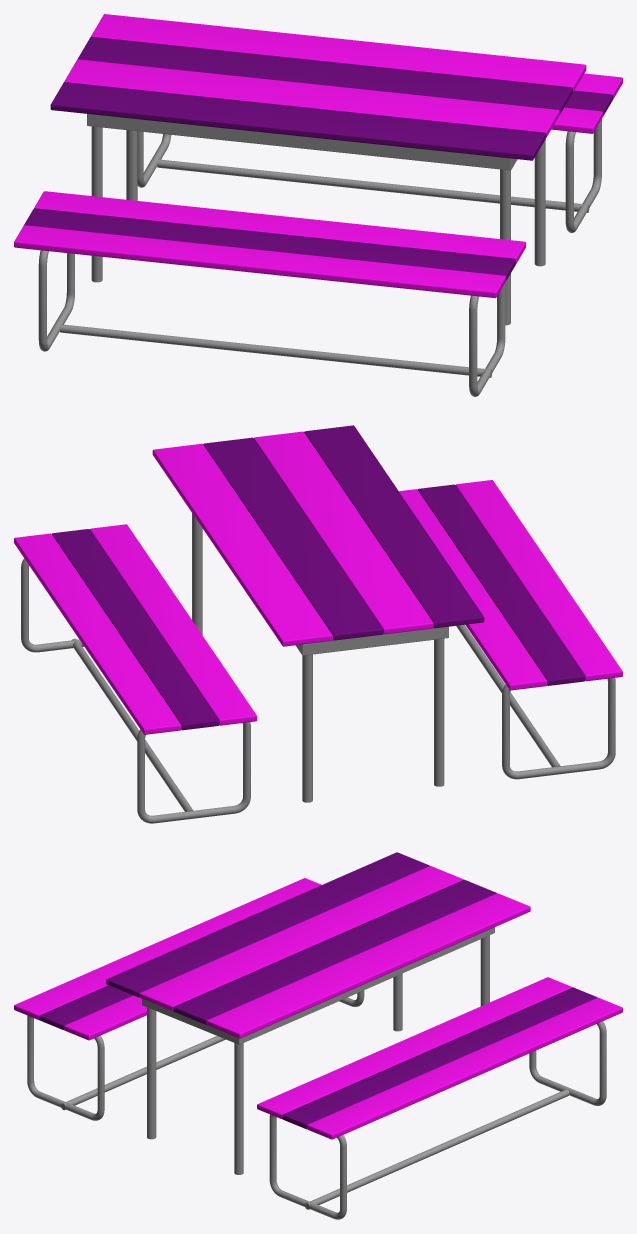
File: Mesa.FBX
3 renders of one model, top to bottom at view 1: azimuth 30°, elevation 25°; view 2: azimuth 150°, elevation 25°; view 3: azimuth 270°, elevation 25°, orthographic. The views are drawn at different scales.
Visible parts, largest first — view 1: Object4809, Object4810, Line3869, Line3879, Line3880, Rectangle042, Rectangle044, Rectangle043, Line3878, Line3876, Line3875, Rectangle045 (+1 smaller); view 2: Object4809, Object4810, Rectangle043, Rectangle045, Line3869, Line3880, Line3877, Line3876, Line3879, Line3878, Rectangle044; view 3: Object4809, Object4810, Line3869, Line3880, Rectangle042, Rectangle044, Rectangle045, Line3878, Line3875, Line3879, Line3877, Line3876.
Part boxes in pixels (x1,y1,x2,y2): Object4809: (14, 14, 622, 298); Object4810: (24, 36, 612, 280); Line3869: (87, 114, 517, 170); Line3879: (60, 324, 492, 377); Line3880: (157, 159, 589, 212); Rectangle042: (469, 283, 505, 396); Rectangle044: (565, 119, 601, 232); Rectangle043: (38, 250, 74, 351); Line3878: (534, 139, 545, 266); Line3876: (91, 126, 102, 282); Line3875: (500, 169, 510, 325); Rectangle045: (137, 131, 171, 187); Object4809: (14, 431, 622, 734); Object4810: (52, 425, 584, 730); Rectangle043: (502, 678, 615, 779); Rectangle045: (137, 722, 250, 823); Line3869: (295, 626, 448, 655); Line3880: (72, 638, 193, 811); Line3877: (302, 654, 312, 802); Line3876: (434, 638, 444, 786); Line3879: (456, 624, 560, 767); Line3878: (192, 513, 202, 634); Rectangle044: (21, 558, 83, 652); Object4809: (14, 866, 622, 1139); Object4810: (39, 852, 597, 1129); Line3869: (142, 927, 494, 1044); Line3880: (305, 1089, 569, 1209); Rectangle042: (27, 1015, 104, 1120); Rectangle044: (269, 1114, 346, 1219); Rectangle045: (529, 1021, 606, 1105); Line3878: (234, 1043, 243, 1174); Line3875: (147, 1007, 156, 1139); Line3879: (61, 1036, 225, 1110); Line3877: (480, 935, 489, 1006); Line3876: (393, 973, 402, 1031).
Size of the model in its own units: 44.77 by 12.86 by 44.82.
